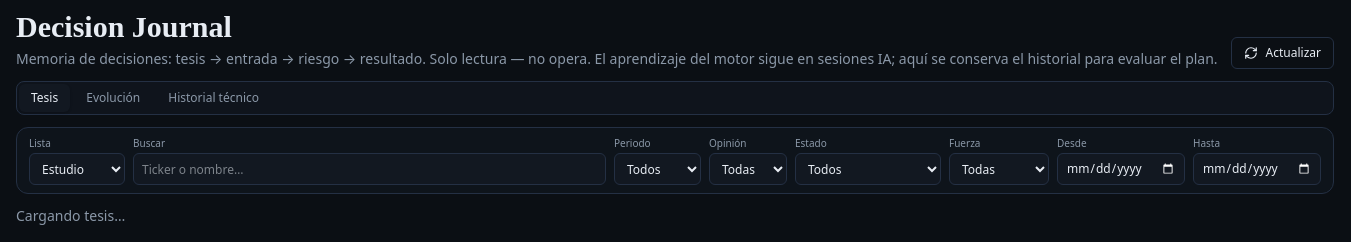
Test: DecisionJournalPage › muestra Cargando… en historial
The width and height of the screenshot is (1351, 242).
Click the button with test id "tab-historial" at point(214, 98), box [156,84,271,112]
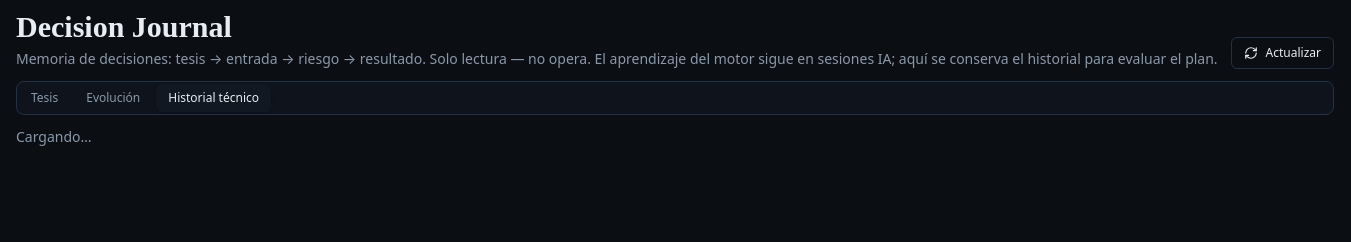
Now the text "Cargando…" is shown, box [16,127,92,146]
